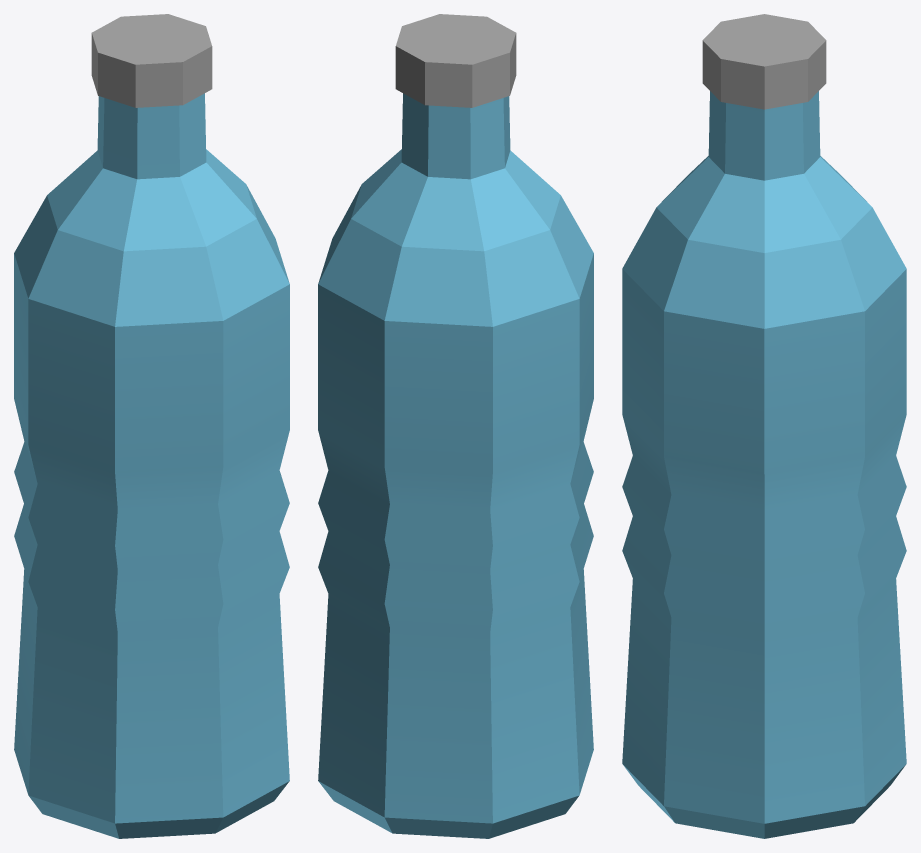
File: BottlePlastic.fbx
3 renders of one model, left to right at view 1: azimuth 30°, elevation 25°; view 2: azimuth 150°, elevation 25°; view 3: azimuth 270°, elevation 25°, orthographic.
Parts seen in each view (by area): view 1: pCylinder1; view 2: pCylinder1; view 3: pCylinder1.
Part boxes in pixels (bbox=[...]): pCylinder1: bbox=[14, 14, 289, 838]; pCylinder1: bbox=[318, 14, 593, 838]; pCylinder1: bbox=[622, 14, 906, 838].
Size of the model in its own units: 1.73 by 4.99 by 1.73.
